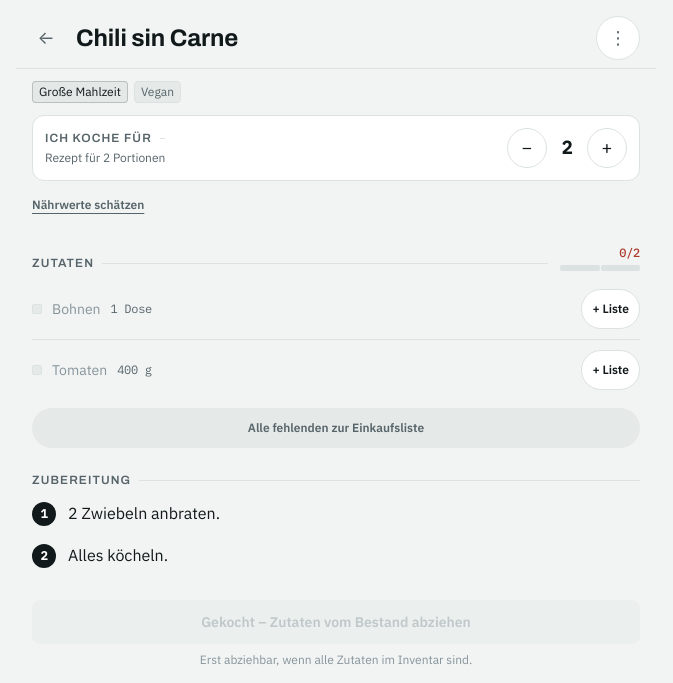
it: RecipeDetail › scaling portions › rescales ingredient quantities live
Expected: the text "400 g" is shown, [117,362,152,378]
Click the button named "Mehr Portionen": (607, 148) [587,128,627,168]
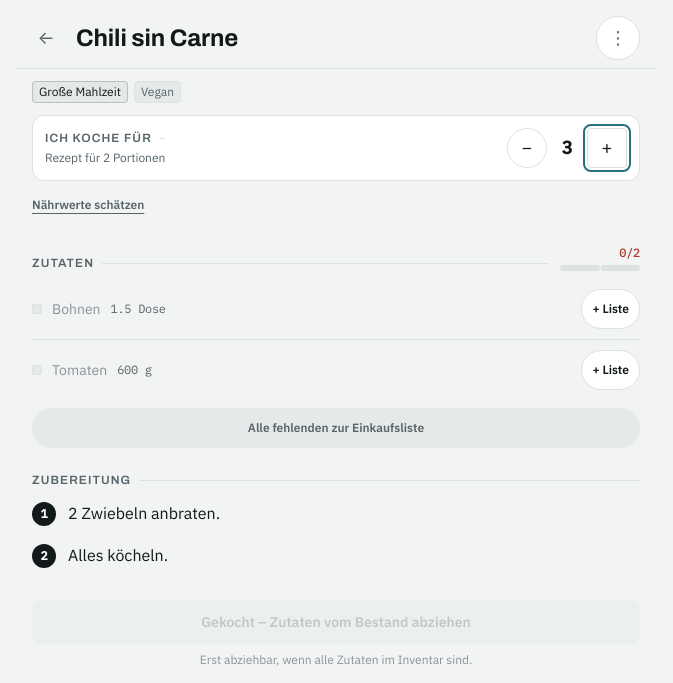
Expected: the text "600 g" is shown, [117,362,152,378]
Click the button named "Mehr Portionen": (607, 148) [587,128,627,168]
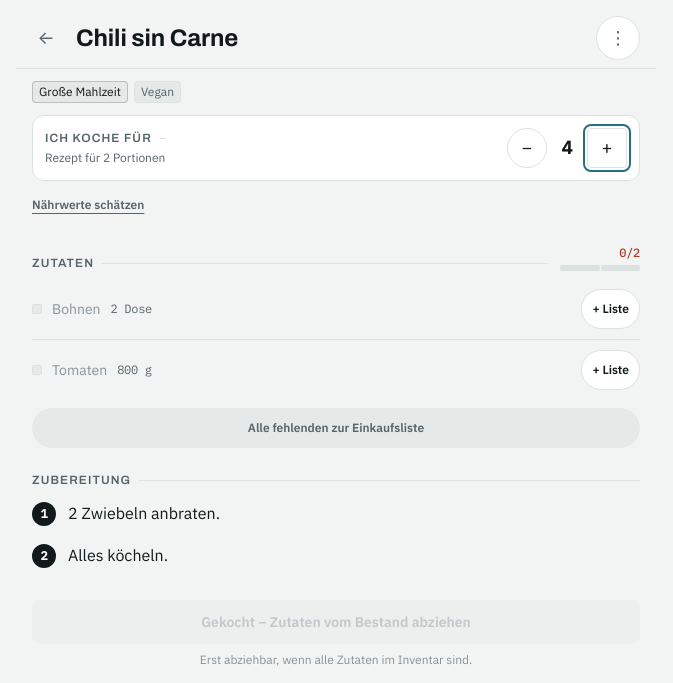
Expected: the text "800 g" is shown, [117,362,152,378]
